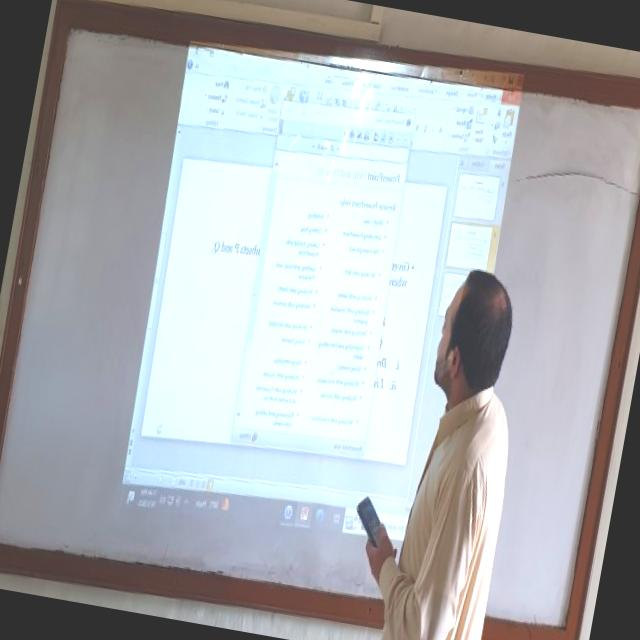Instructor: (375, 245, 549, 640)
Slide: (114, 34, 523, 571)
White-board: (0, 14, 640, 640)
